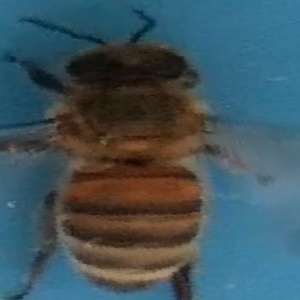bee: (12, 7, 280, 300)
